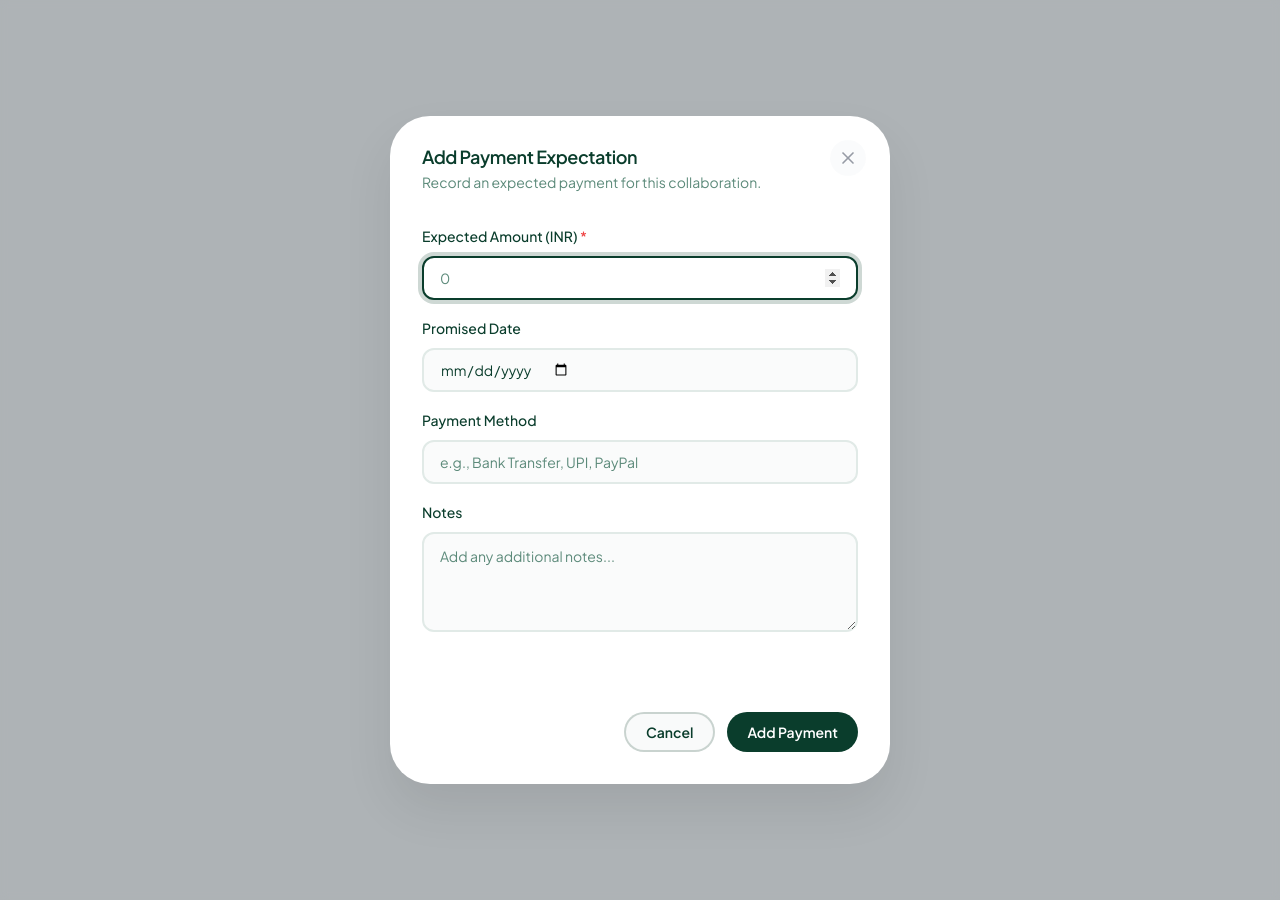
Test case: PaymentExpectationModal › Form Validation › should show error when amount is 0
The image size is (1280, 900).
Click the button "Add Payment" at (793, 732), box [727,712,858,752]
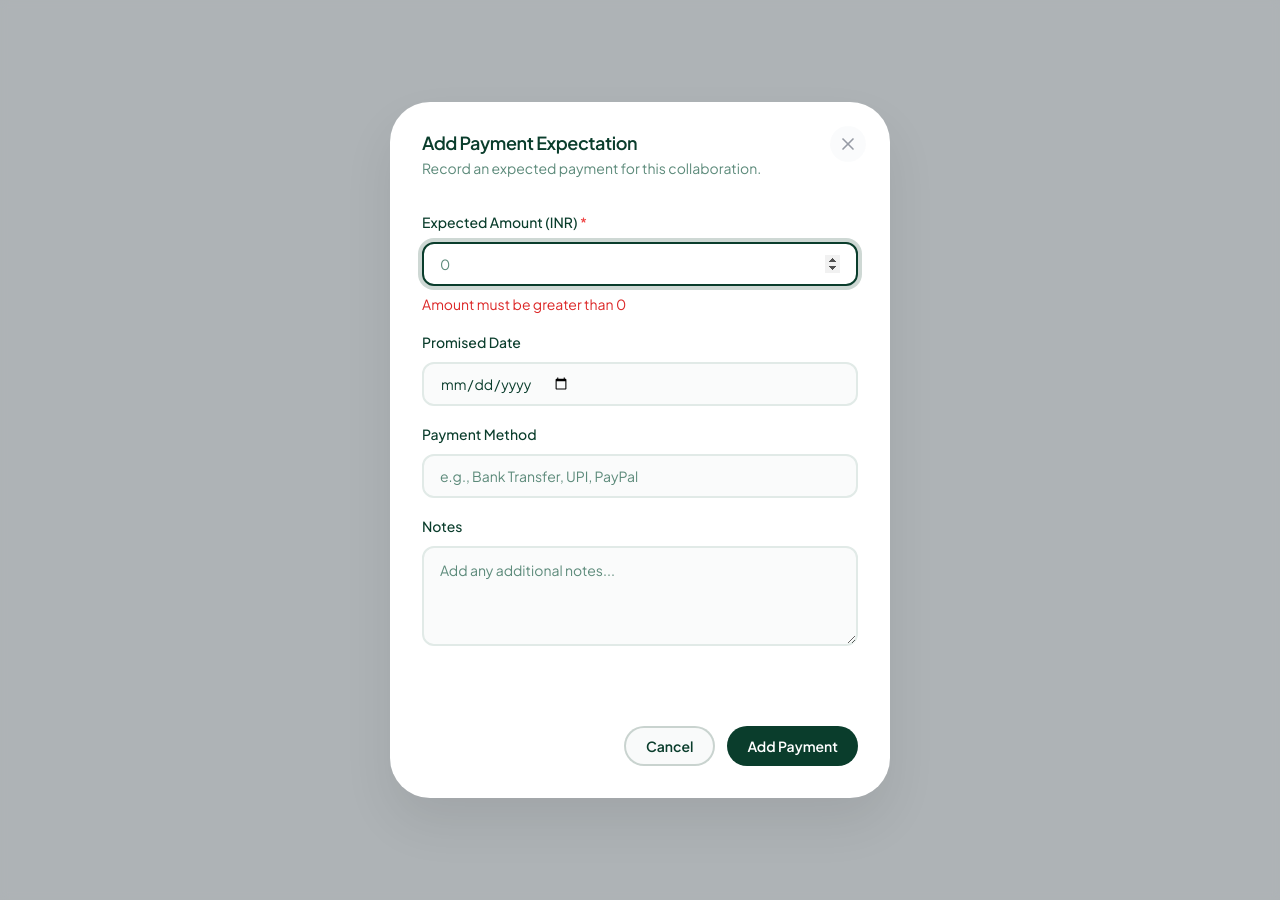
Now the text "Amount must be greater than 0" is shown, box [422,295,626,313]
